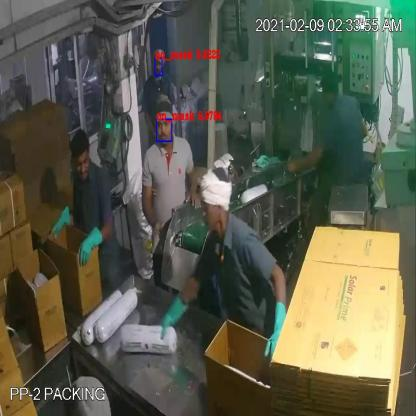glove: (153, 286, 191, 346), (262, 295, 293, 368), (72, 227, 106, 269), (46, 204, 76, 245)
no_glove: (283, 141, 333, 182), (138, 179, 162, 248), (184, 164, 201, 213)
